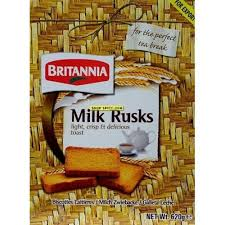Britania-toast-large: (28, 2, 195, 224)
